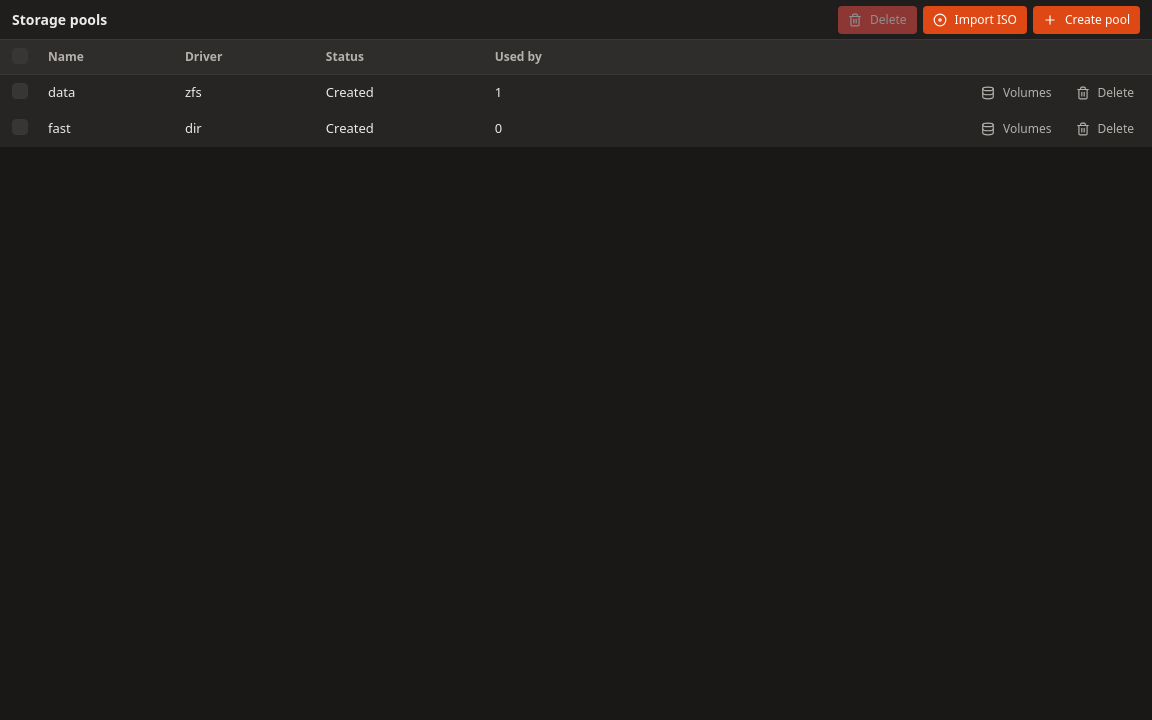
Test case: StoragePage › rejects a resize below the current size
Expected: the text "data" is shown, [48,83,75,101]
Click the button with test id "pool-volumes-data". click: [1016, 93]
box: [971,79,1062,107]
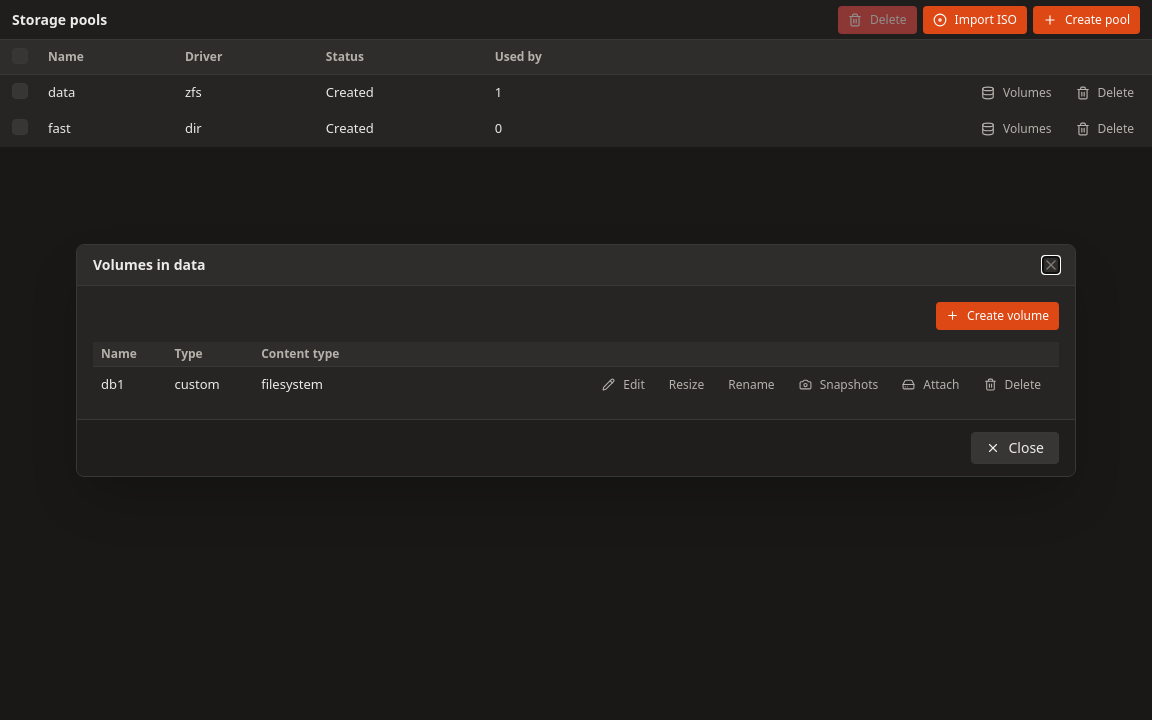
Now the table with test id "volume-table-data" is shown, box [93,342,1059,402]
Click the button with test id "volume-resize-db1". click: [687, 384]
box: [659,370,714,398]
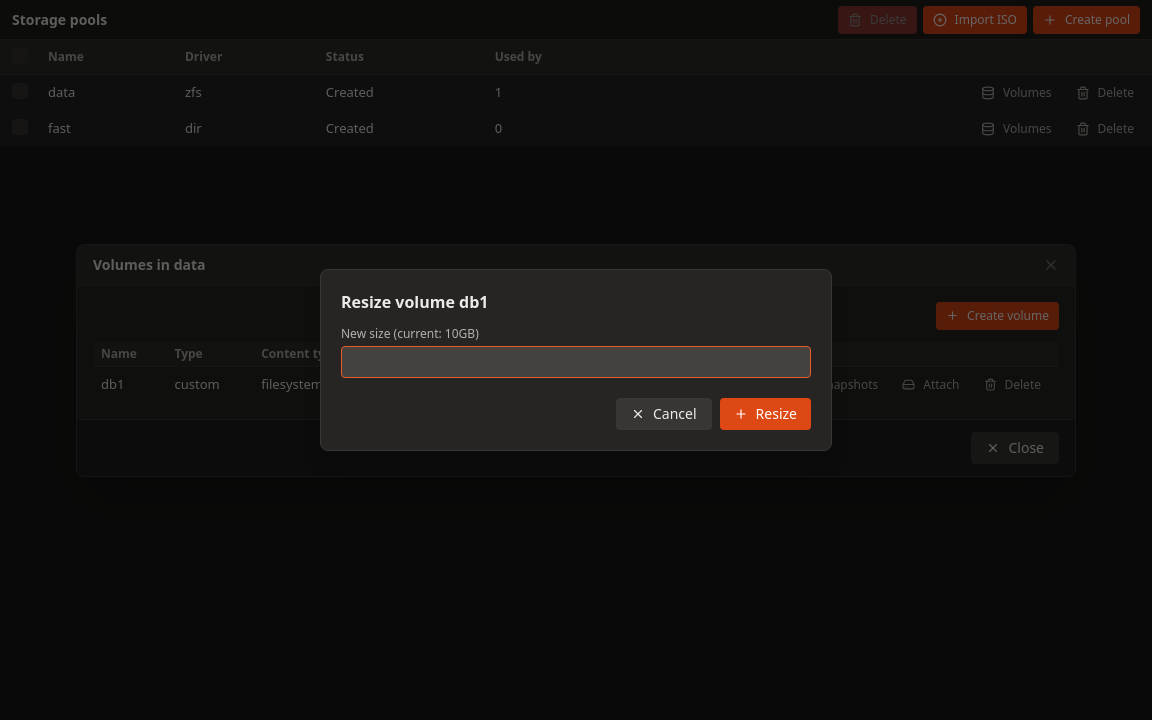
Type "5GB" into the field with test id "volume-resize-size". click: [576, 362]
box: [341,346,811,378]
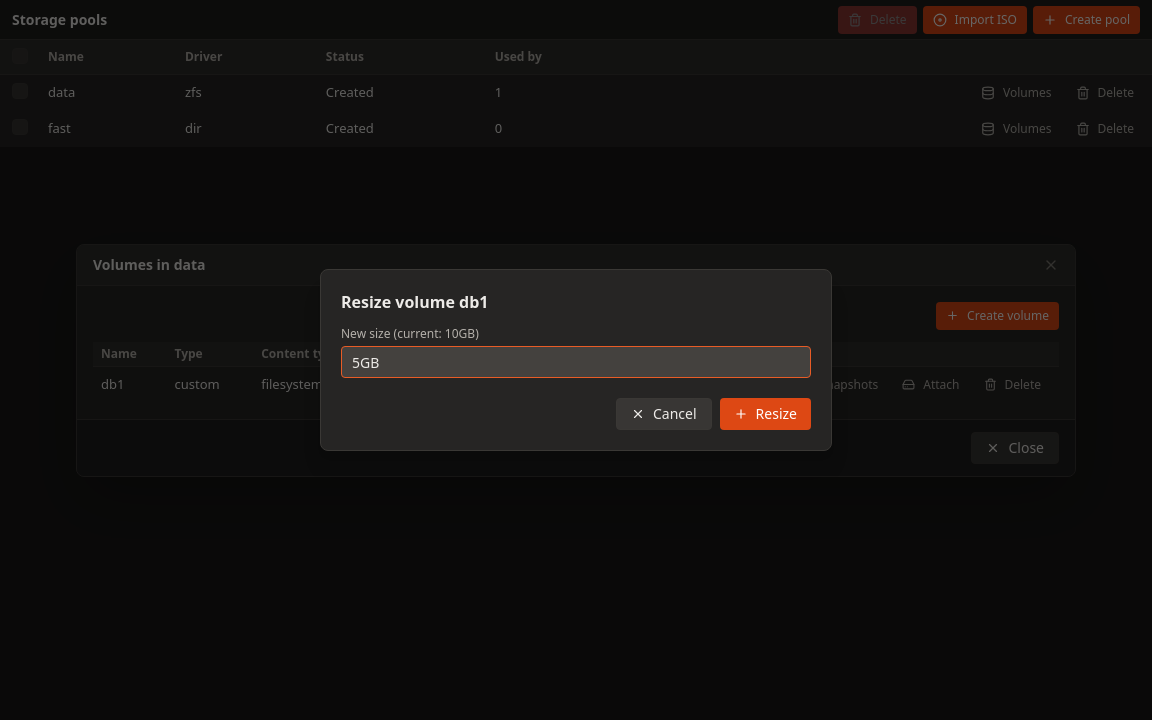
Click the button with test id "volume-resize-submit". click: [765, 414]
box: [720,398,811,430]
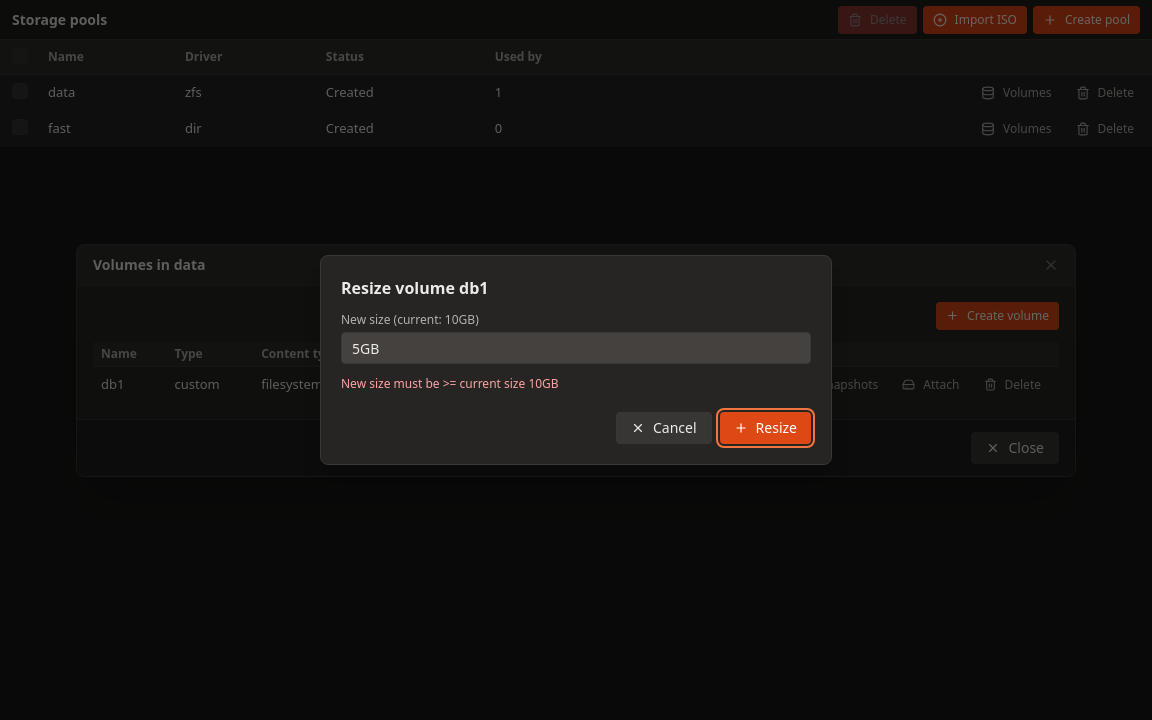
Now the text "New size must be >= current size 10GB" is shown, box [341,375,559,392]
